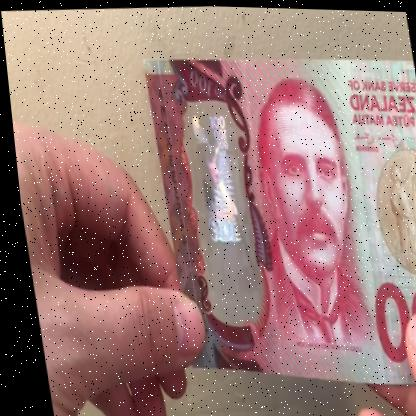100F: (181, 105, 247, 288)
